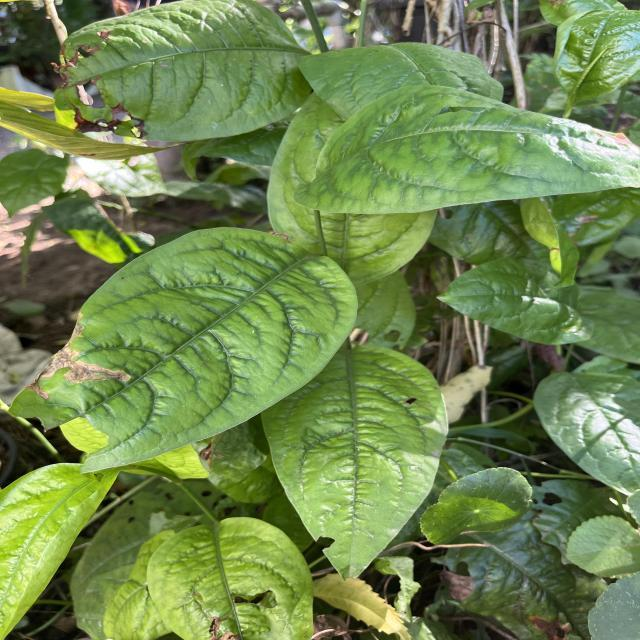Plumbago indica: (0, 221, 359, 475), (263, 336, 450, 592), (284, 86, 640, 219), (45, 2, 310, 143)
